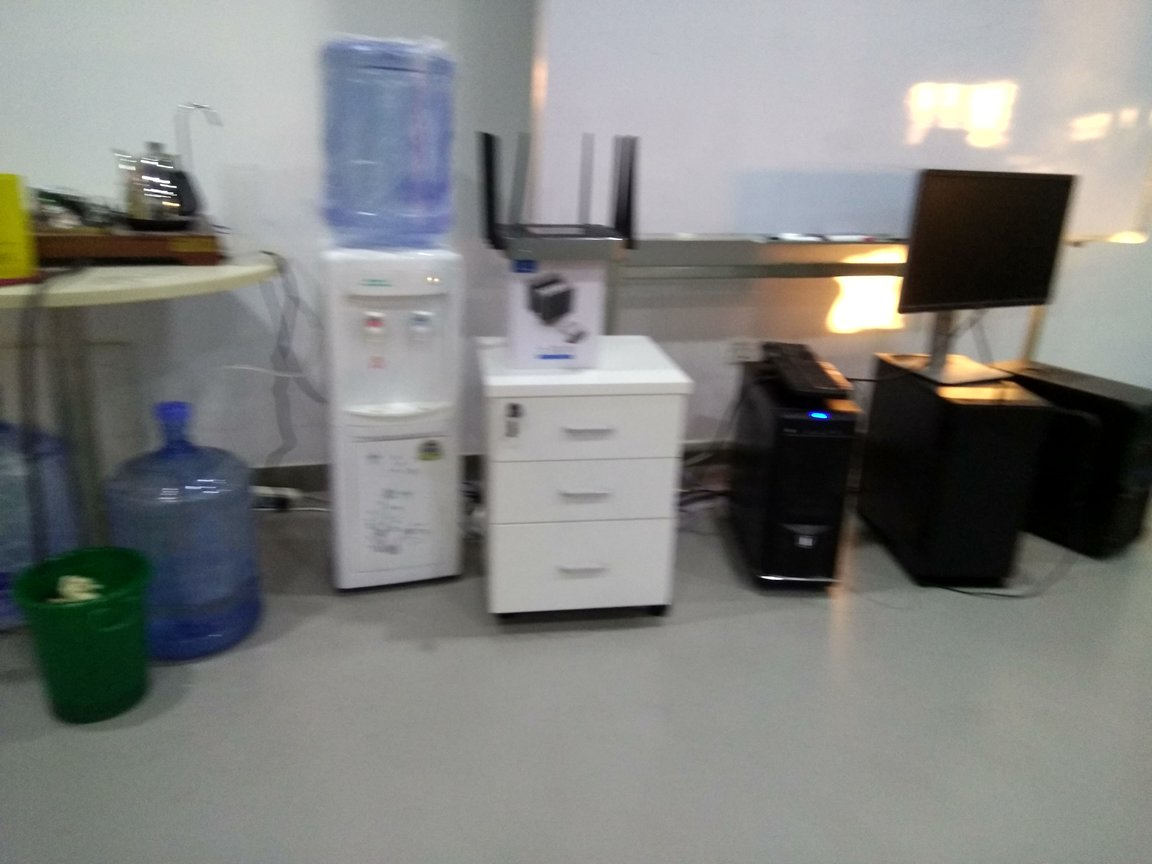computer: (873, 353, 1037, 591), (989, 353, 1152, 568), (737, 359, 843, 601)
drawer chest: (469, 330, 683, 624)
monitor: (902, 162, 1074, 390)
scuttlebutt: (113, 406, 270, 654), (320, 37, 467, 251), (1, 414, 100, 640)
water dispenser: (326, 241, 467, 588)
